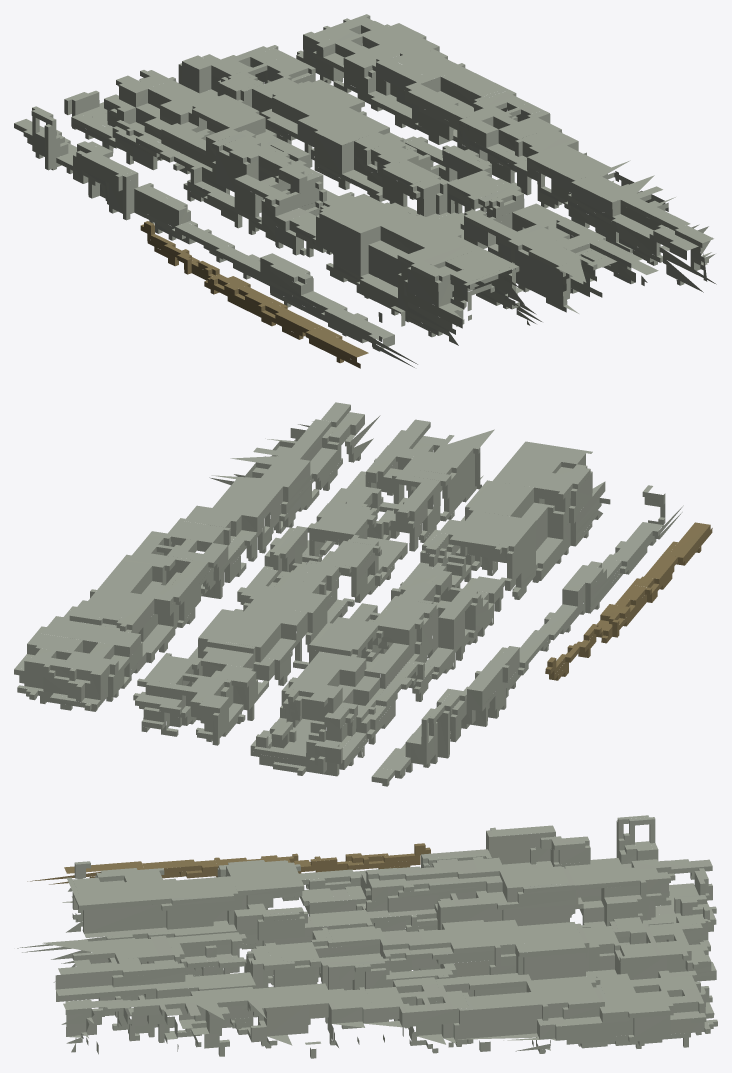
The picture shows the model from 3 angles, top to bottom: view 1: azimuth 30°, elevation 25°; view 2: azimuth 150°, elevation 25°; view 3: azimuth 270°, elevation 25°; orthographic projection. The views are drawn at different scales.
Visible parts, largest first — view 1: measured-industrial; view 2: measured-industrial; view 3: measured-industrial.
Boxes of the visible parts, x1,y1,x2,y2 form: measured-industrial: [14, 14, 716, 368]; measured-industrial: [14, 402, 712, 786]; measured-industrial: [17, 815, 717, 1058].
Bounding box in the file's own units: 89.68 × 13.25 × 135.
